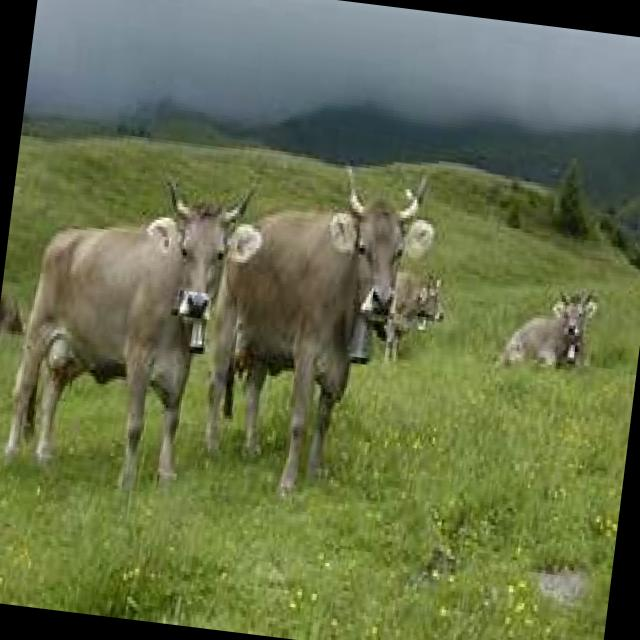animal: (4, 167, 273, 450), (216, 161, 428, 488), (502, 264, 601, 396)
